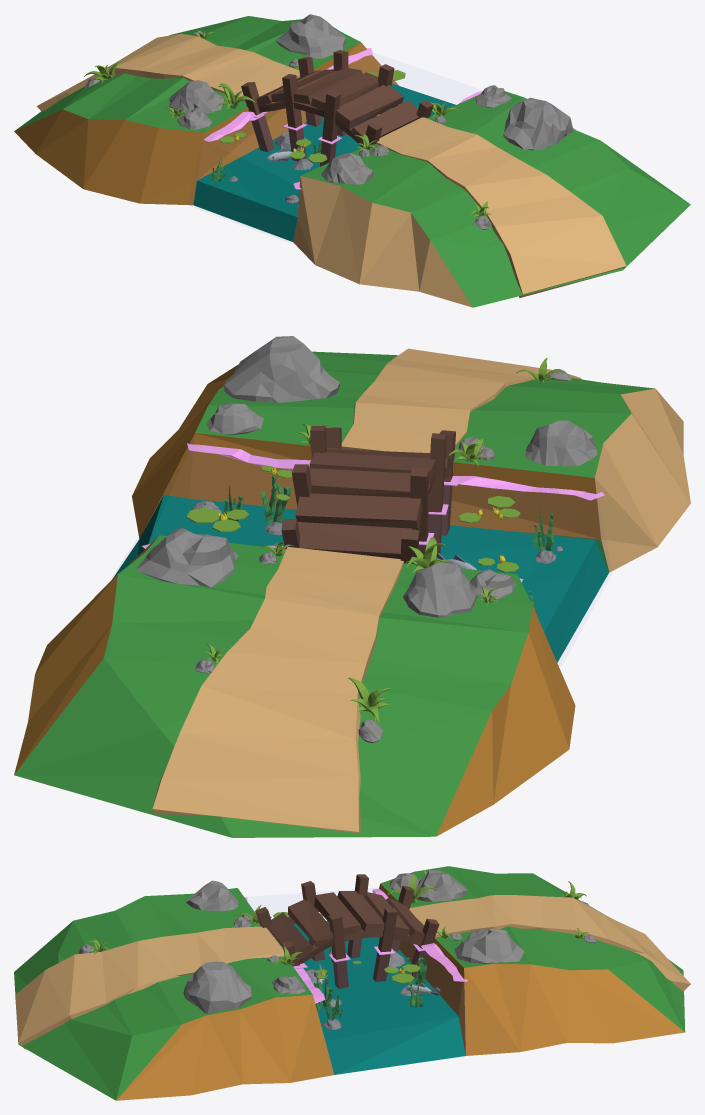
3 views of the same model, one above another, from view 1: azimuth 30°, elevation 25°; view 2: azimuth 150°, elevation 25°; view 3: azimuth 270°, elevation 25° (orthographic). The views are drawn at different scales.
Parts seen in each view (by area): view 1: node_MeshObject-1021130880-PolyPaper17, node_MeshObject937433344-PolyPaper10, node_MeshObject1456153408-PolyPaper22, node_MeshObject-100006784-PolyPaper9, node_MeshObject418713280-PolyGem25; view 2: node_MeshObject-1021130880-PolyPaper17, node_MeshObject937433344-PolyPaper10, node_MeshObject1456153408-PolyPaper22, node_MeshObject-100006784-PolyPaper9, node_MeshObject418713280-PolyGem25; view 3: node_MeshObject-1021130880-PolyPaper17, node_MeshObject937433344-PolyPaper10, node_MeshObject1456153408-PolyPaper22, node_MeshObject-100006784-PolyPaper9, node_MeshObject418713280-PolyGem25, node_MeshObject1974873472-PolyPaper10.
Boxes of the visible parts, bbox=[...] form: node_MeshObject-1021130880-PolyPaper17: bbox=[14, 14, 455, 241]; node_MeshObject937433344-PolyPaper10: bbox=[212, 91, 690, 307]; node_MeshObject1456153408-PolyPaper22: bbox=[363, 70, 626, 297]; node_MeshObject-100006784-PolyPaper9: bbox=[83, 50, 433, 181]; node_MeshObject418713280-PolyGem25: bbox=[204, 47, 482, 189]; node_MeshObject-1021130880-PolyPaper17: bbox=[14, 495, 608, 837]; node_MeshObject937433344-PolyPaper10: bbox=[132, 351, 690, 615]; node_MeshObject1456153408-PolyPaper22: bbox=[186, 336, 581, 535]; node_MeshObject-100006784-PolyPaper9: bbox=[261, 426, 499, 743]; node_MeshObject418713280-PolyGem25: bbox=[142, 443, 604, 582]; node_MeshObject-1021130880-PolyPaper17: bbox=[279, 866, 690, 1074]; node_MeshObject937433344-PolyPaper10: bbox=[14, 880, 405, 1100]; node_MeshObject1456153408-PolyPaper22: bbox=[15, 926, 426, 1049]; node_MeshObject-100006784-PolyPaper9: bbox=[255, 870, 589, 988]; node_MeshObject418713280-PolyGem25: bbox=[244, 888, 467, 1003]; node_MeshObject1974873472-PolyPaper10: bbox=[305, 957, 416, 1029].
Size of the model in its own units: 5.22 by 1.39 by 7.47.
